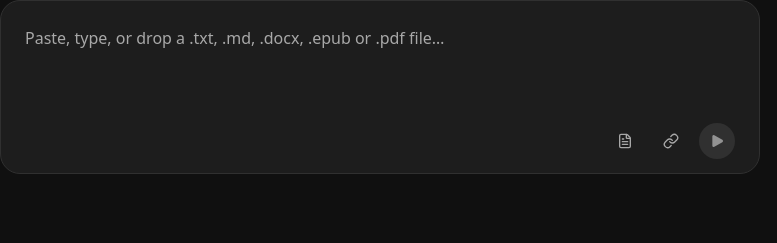
Escape puts the link away without fetching anything
Click the button named "Open link" at (671, 141), box [653,123,689,159]
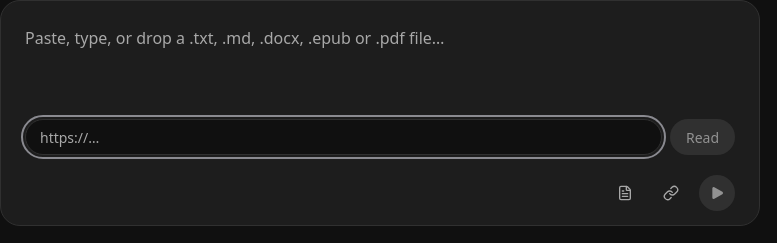
Type "https://example.com" into the field named "Link" at (343, 137), box [25,119,662,155]
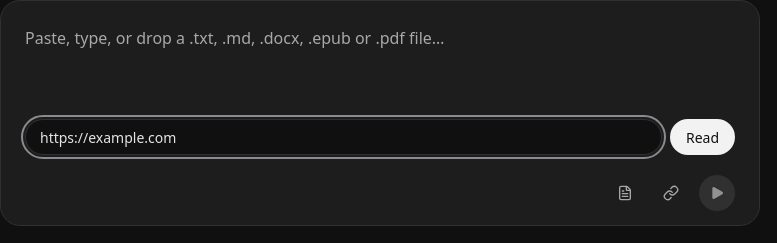
Press Escape in the field named "Link", box [25,119,662,155]
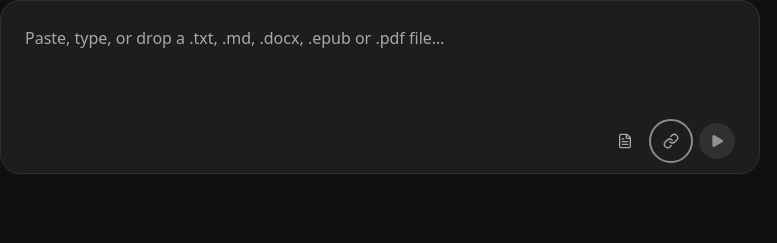
Expected: the field labelled "Link" is gone
